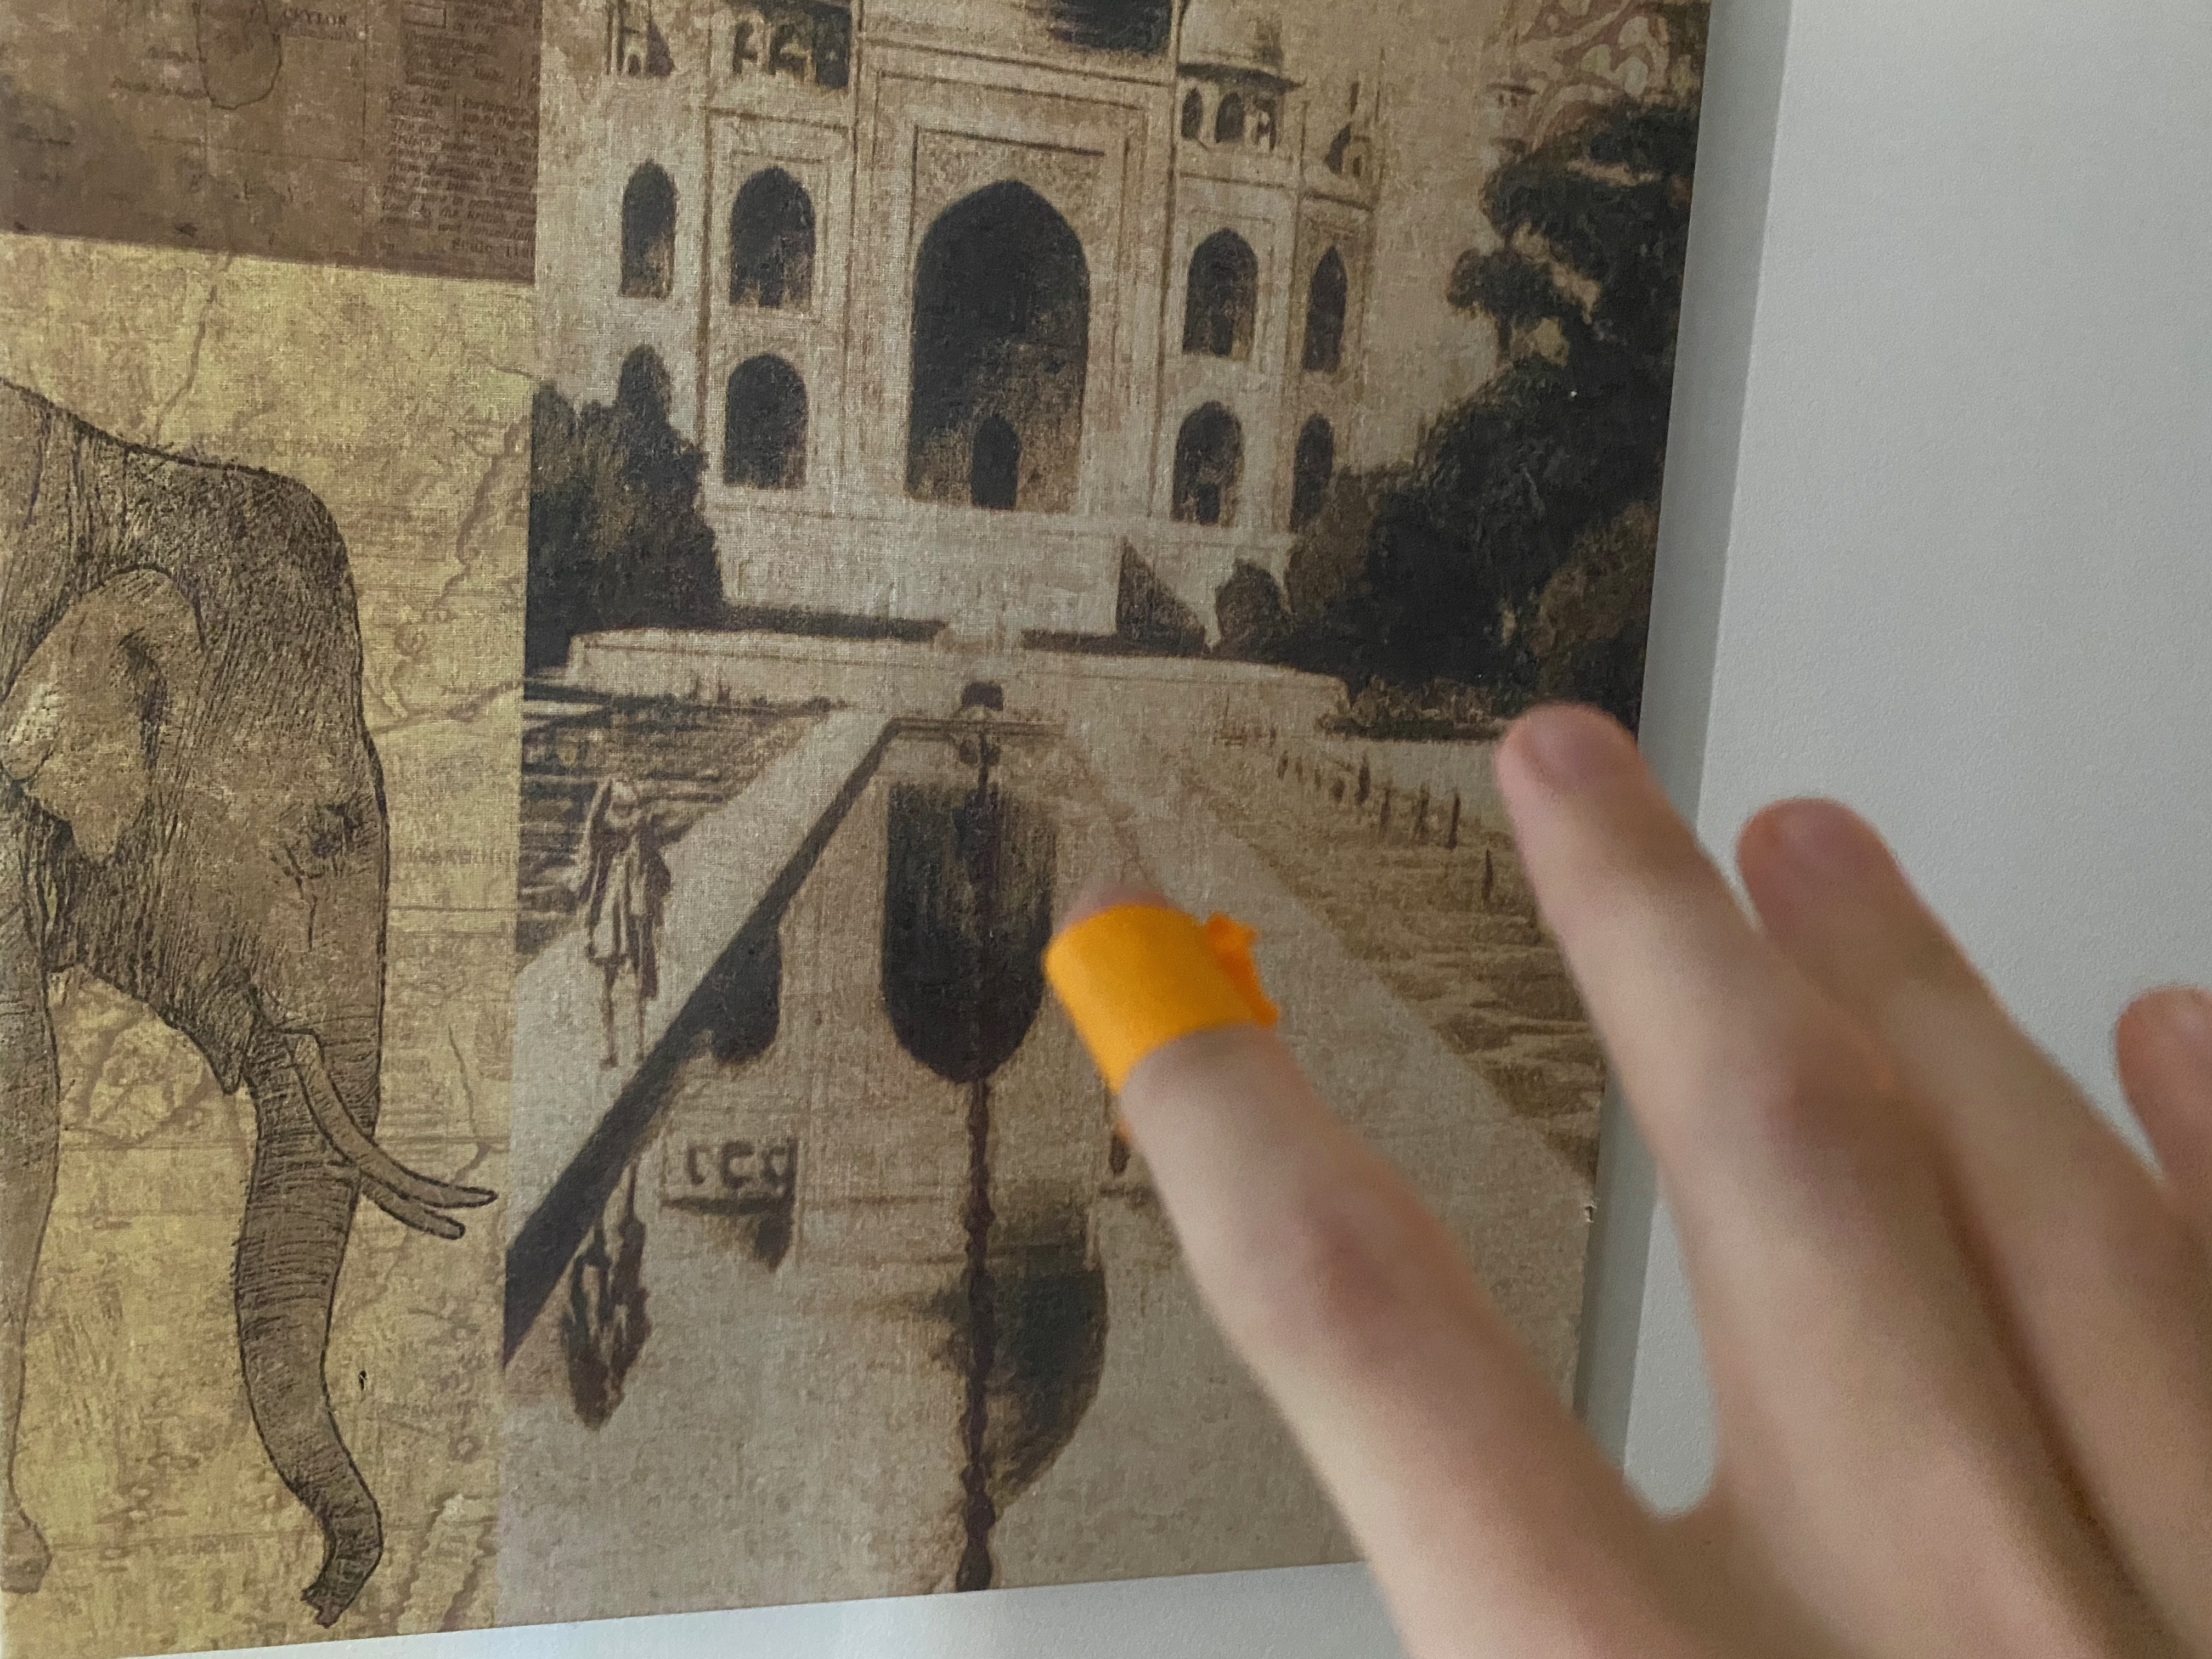fingertip: (998, 870, 1318, 1101)
